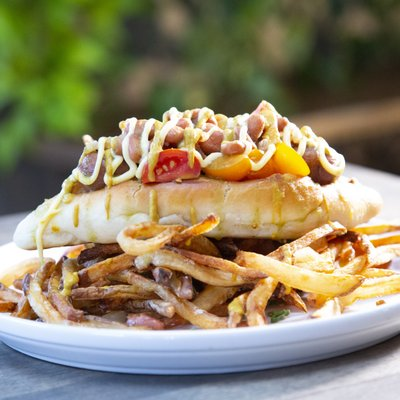burger: (20, 101, 375, 246)
